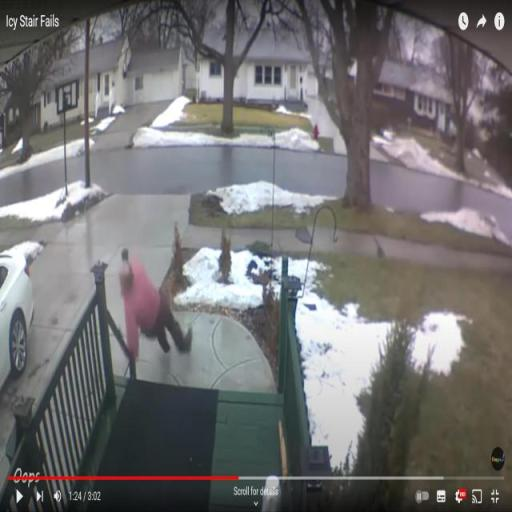Fall: (113, 246, 197, 361)
